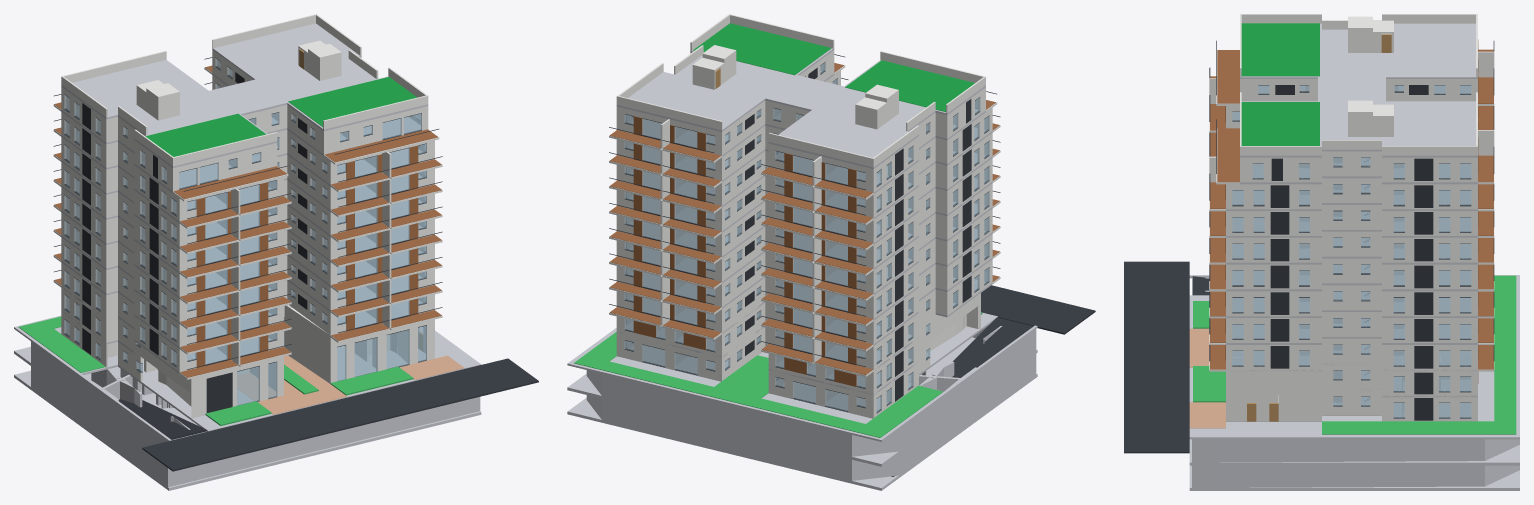
The model's file is sharett26_28_model.obj.
The picture shows the model from 3 angles, left to right: view 1: azimuth 30°, elevation 25°; view 2: azimuth 150°, elevation 25°; view 3: azimuth 270°, elevation 25°; orthographic projection. The views are drawn at different scales.
Visible parts, largest first — view 1: ext_white, slab_floor, alu_dark, glass_blue, wood_deck, synthetic_turf, hpl_wood, garden_grass, terracotta; view 2: ext_white, slab_floor, glass_blue, alu_dark, wood_deck, hpl_wood, garden_grass, synthetic_turf; view 3: ext_white, slab_floor, alu_dark, glass_blue, wood_deck, synthetic_turf, garden_grass, terracotta, oak_furn.
Boxes of the visible parts, <box> form: ext_white: <box>53,14,442,418</box>; slab_floor: <box>14,23,481,490</box>; alu_dark: <box>53,57,538,471</box>; glass_blue: <box>64,58,426,405</box>; wood_deck: <box>54,65,441,377</box>; synthetic_turf: <box>145,77,416,156</box>; hpl_wood: <box>196,145,418,367</box>; garden_grass: <box>18,316,413,425</box>; terracotta: <box>237,355,464,414</box>; ext_white: <box>609,14,1000,418</box>; slab_floor: <box>567,48,1037,490</box>; glass_blue: <box>624,62,989,412</box>; alu_dark: <box>609,54,1095,476</box>; wood_deck: <box>609,63,999,375</box>; hpl_wood: <box>633,116,856,386</box>; garden_grass: <box>574,312,982,437</box>; synthetic_turf: <box>693,23,974,111</box>; ext_white: <box>1209,14,1494,421</box>; slab_floor: <box>1189,23,1519,490</box>; alu_dark: <box>1124,40,1494,453</box>; glass_blue: <box>1232,85,1471,418</box>; wood_deck: <box>1210,49,1493,369</box>; synthetic_turf: <box>1241,23,1319,145</box>; garden_grass: <box>1193,275,1516,434</box>; terracotta: <box>1189,328,1225,428</box>; oak_furn: <box>1247,34,1391,421</box>.
Size of the model in its own units: 48 by 40.62 by 42.21.
